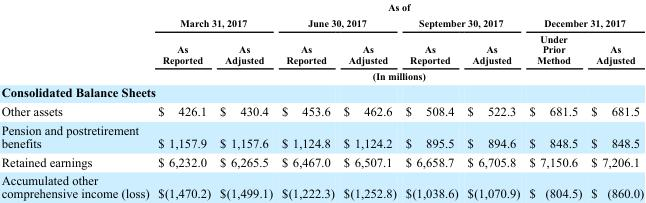table: (0, 0, 643, 199)
table column: (0, 0, 152, 199), (152, 0, 214, 199), (214, 0, 276, 199), (276, 0, 338, 199), (338, 0, 400, 199), (400, 0, 462, 199), (462, 0, 524, 199), (524, 0, 585, 199), (585, 0, 643, 199)
table column header: (0, 0, 643, 82)
table projected row header: (0, 82, 643, 101)
table row: (0, 30, 643, 67), (0, 120, 643, 151), (0, 170, 643, 199), (0, 82, 643, 101), (0, 101, 643, 120), (0, 151, 643, 170), (0, 14, 643, 30), (0, 67, 643, 82), (0, 0, 643, 14)
table spanning cell: (152, 67, 643, 82), (152, 0, 643, 14), (152, 14, 276, 30), (276, 14, 400, 30), (400, 14, 524, 30), (524, 14, 643, 30)
